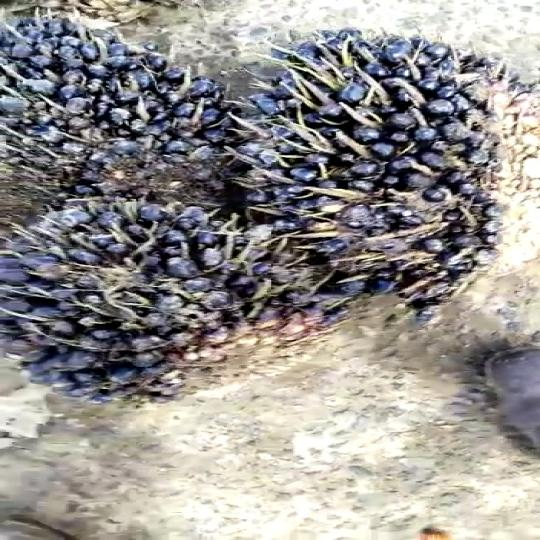mentah: (211, 23, 507, 306), (0, 200, 362, 400), (0, 2, 236, 216)
